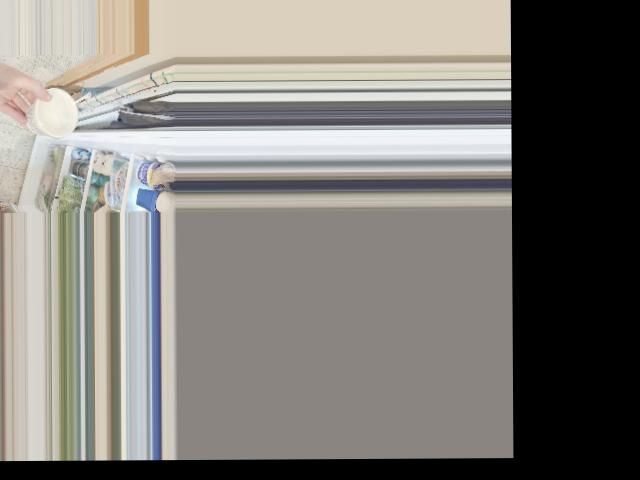cotage: (32, 93, 83, 137)
